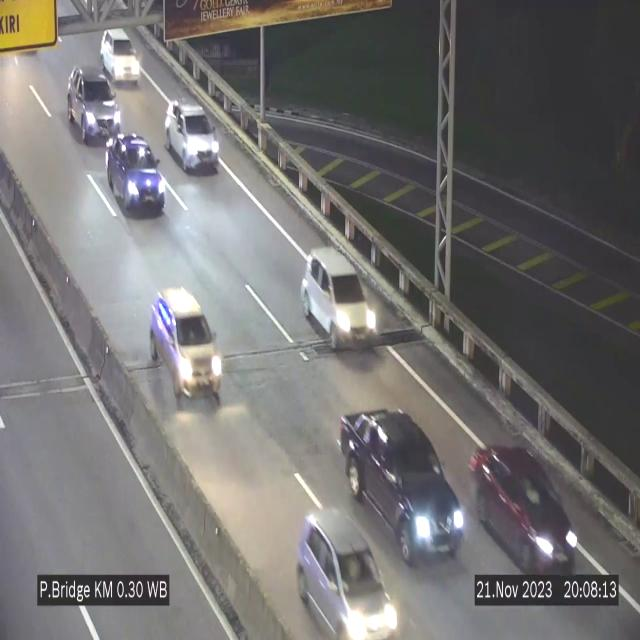Car: (341, 411, 465, 564), (468, 439, 580, 571), (295, 505, 401, 640), (150, 288, 223, 406), (300, 248, 378, 349), (106, 132, 164, 215), (67, 67, 121, 144), (165, 101, 219, 171), (100, 28, 140, 86)
